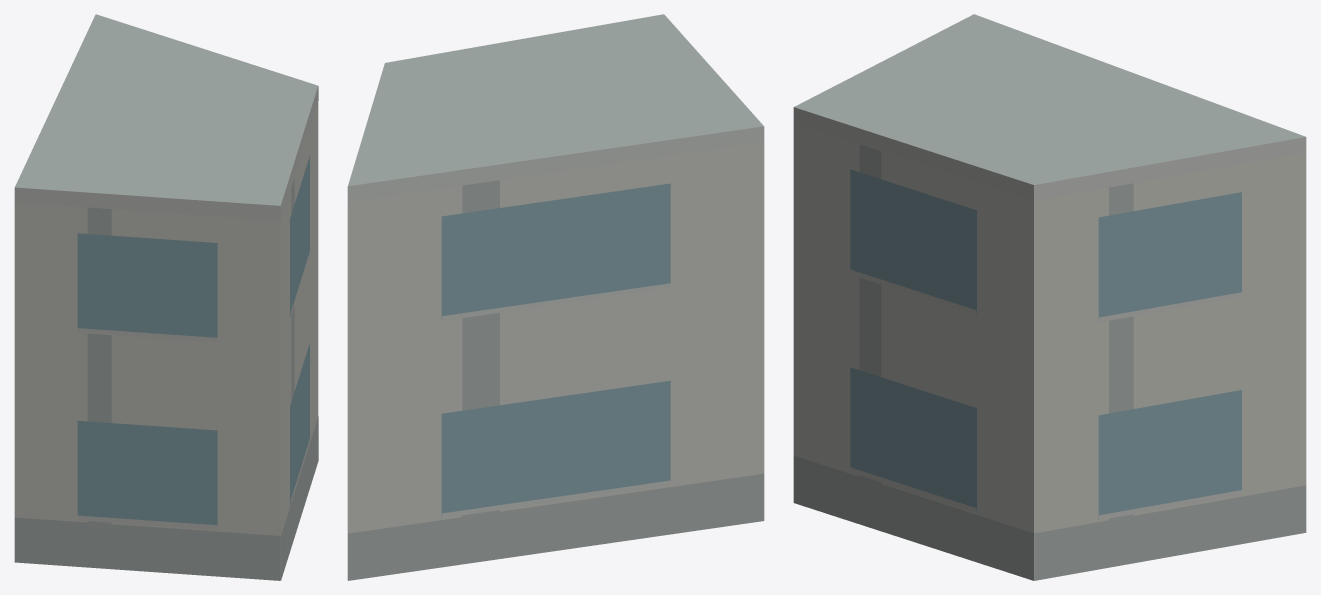
The model's file is survey-upis-32646966.glb.
3 renders of one model, left to right at view 1: azimuth 30°, elevation 25°; view 2: azimuth 150°, elevation 25°; view 3: azimuth 270°, elevation 25°, orthographic. The views are drawn at different scales.
Parts seen in each view (by area): view 1: survey-upis-32646966.tmp; view 2: survey-upis-32646966.tmp; view 3: survey-upis-32646966.tmp.
Boxes of the visible parts, bbox=[...] form: survey-upis-32646966.tmp: bbox=[14, 14, 318, 580]; survey-upis-32646966.tmp: bbox=[347, 14, 764, 580]; survey-upis-32646966.tmp: bbox=[793, 14, 1306, 580].
Size of the model in its own units: 5.66 by 6.1 by 7.17.
